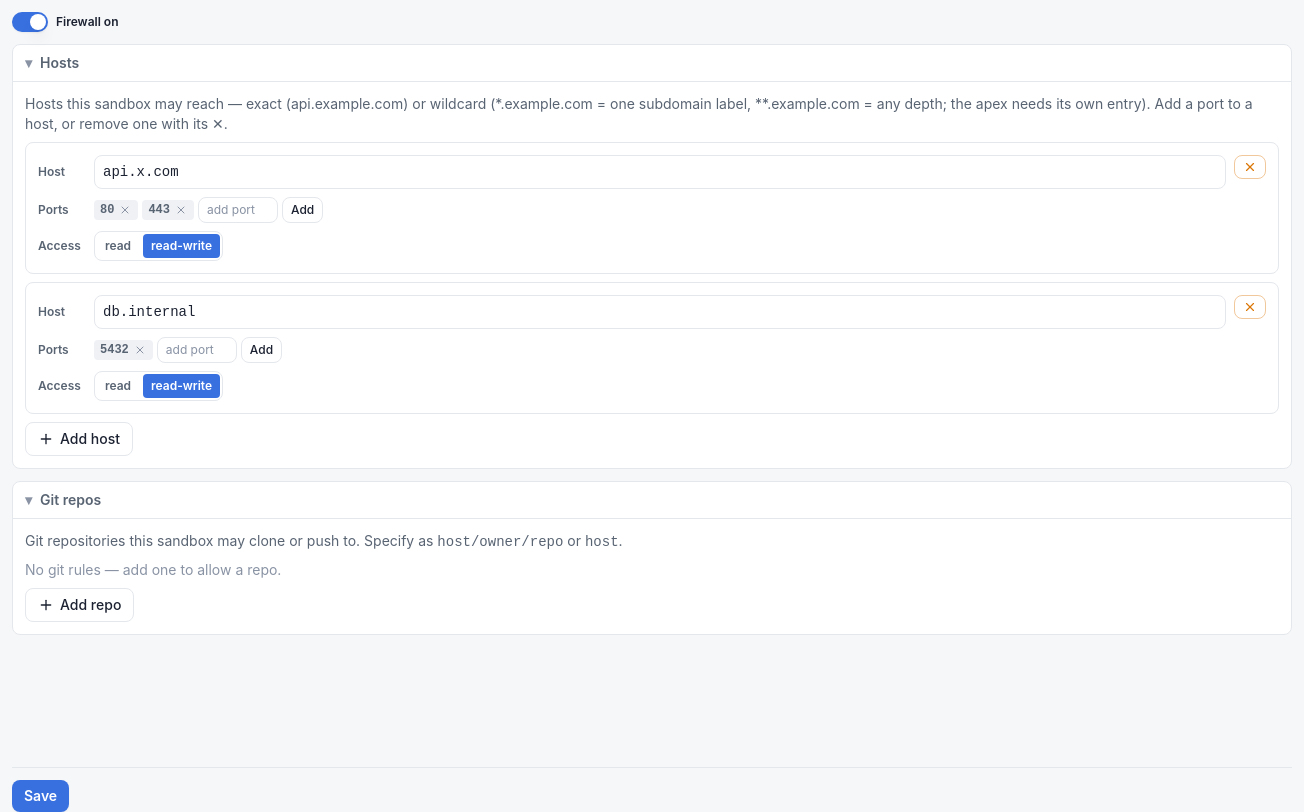
Test: PolicyEditor › rejects a duplicate port already in the list
Check: the 1st field showing "api.x.com" is shown, box [94,155,1226,189]
In the field named "Add port to host rule 1 (api.x.com)": (238, 210) [198,197,278,223], type "443"
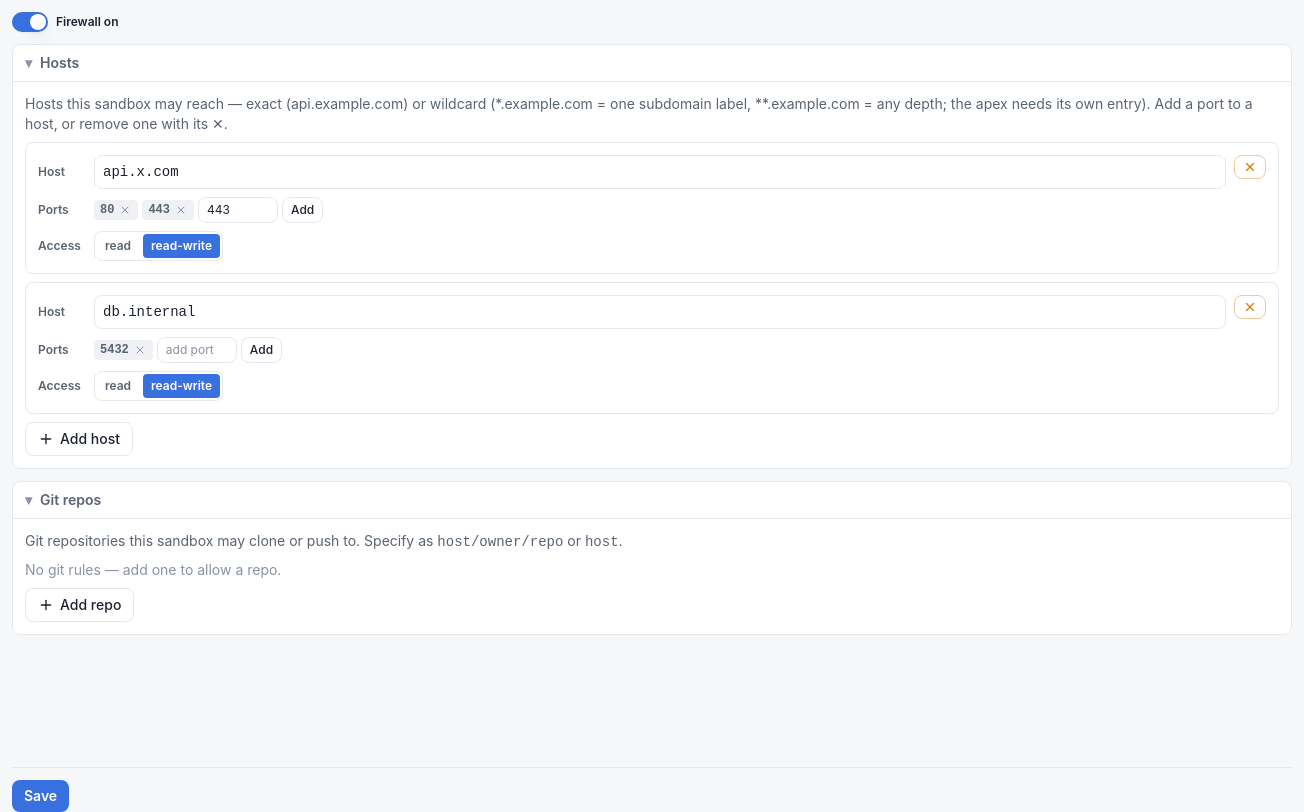
Click the button with aria-label "Add port to host rule 1 (api.x.com)": (303, 210) [282,197,323,223]
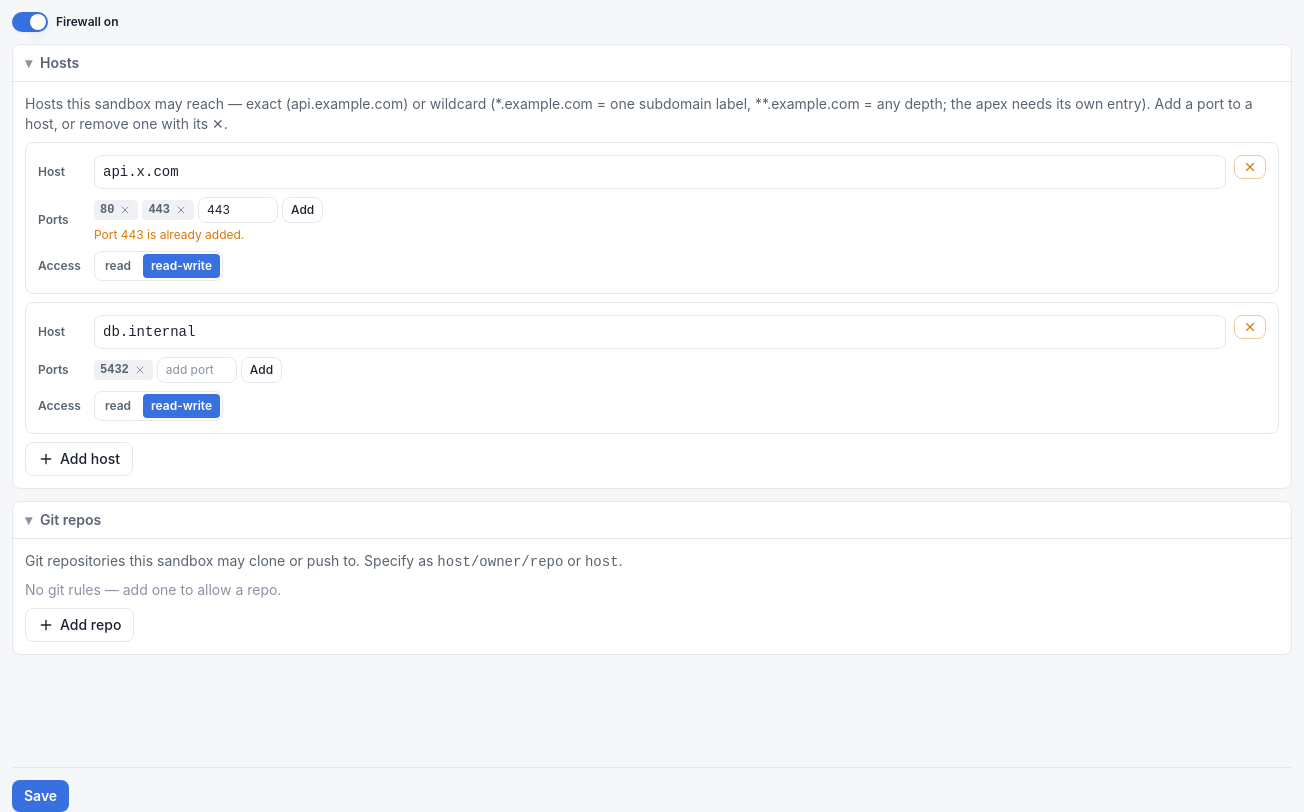
Check: the text "Port 443 is already added." is shown, box [94,227,244,242]
